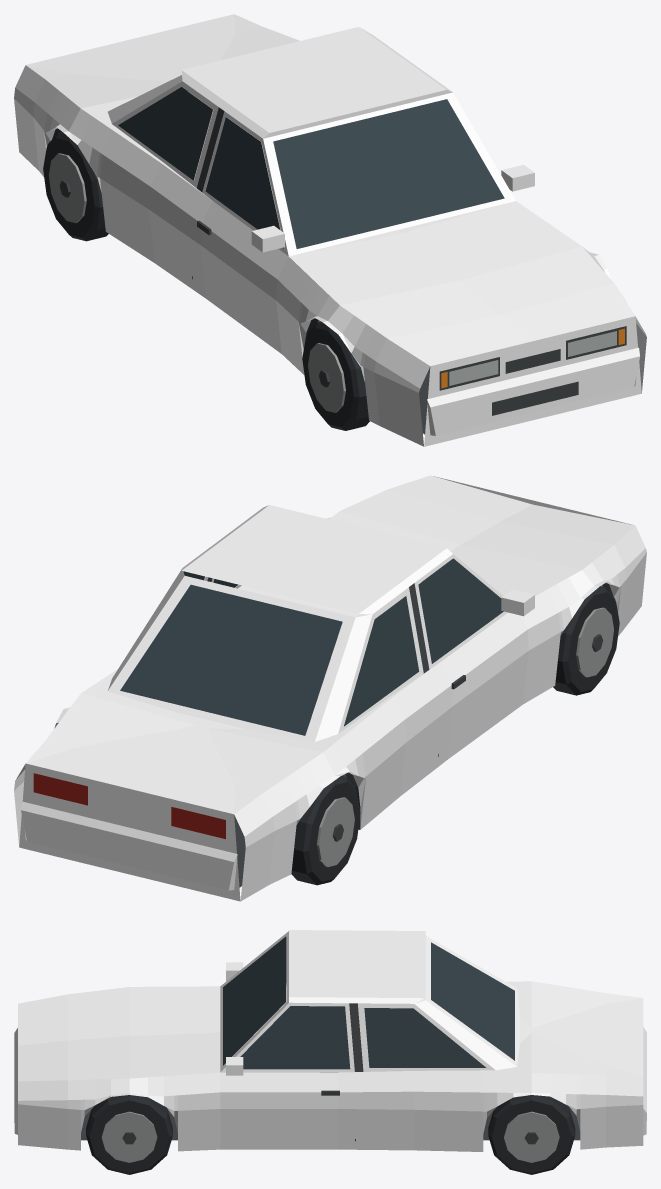
The model's file is sanga_kamui_s.glb.
3 renders of one model, top to bottom at view 1: azimuth 30°, elevation 25°; view 2: azimuth 150°, elevation 25°; view 3: azimuth 270°, elevation 25°, orthographic. The views are drawn at different scales.
Parts seen in each view (by area): view 1: sanga_kamui_s; view 2: sanga_kamui_s; view 3: sanga_kamui_s.
Part boxes in pixels (x1=…): sanga_kamui_s: x1=14, y1=14, x2=646, y2=446; sanga_kamui_s: x1=14, y1=475, x2=646, y2=901; sanga_kamui_s: x1=14, y1=930, x2=646, y2=1174.
Size of the model in its own units: 1.73 by 1.25 by 4.42.
8 materials, 1 textured.
